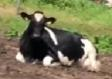cow: (15, 10, 100, 72)
